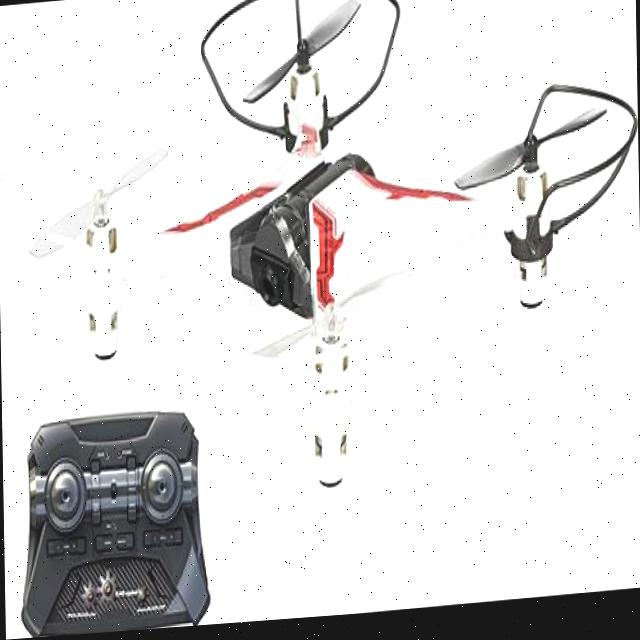drone: (0, 0, 640, 526)
